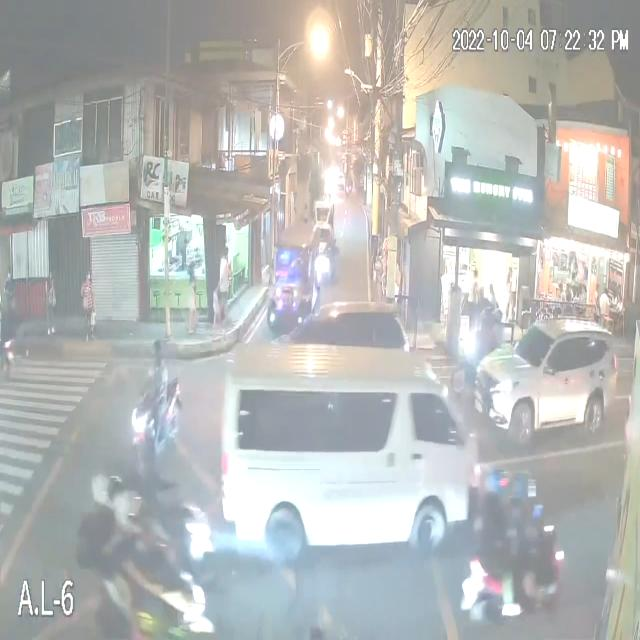Full-Faced: (486, 463, 510, 505), (150, 340, 163, 368)
Half-Faced: (510, 462, 535, 504)
